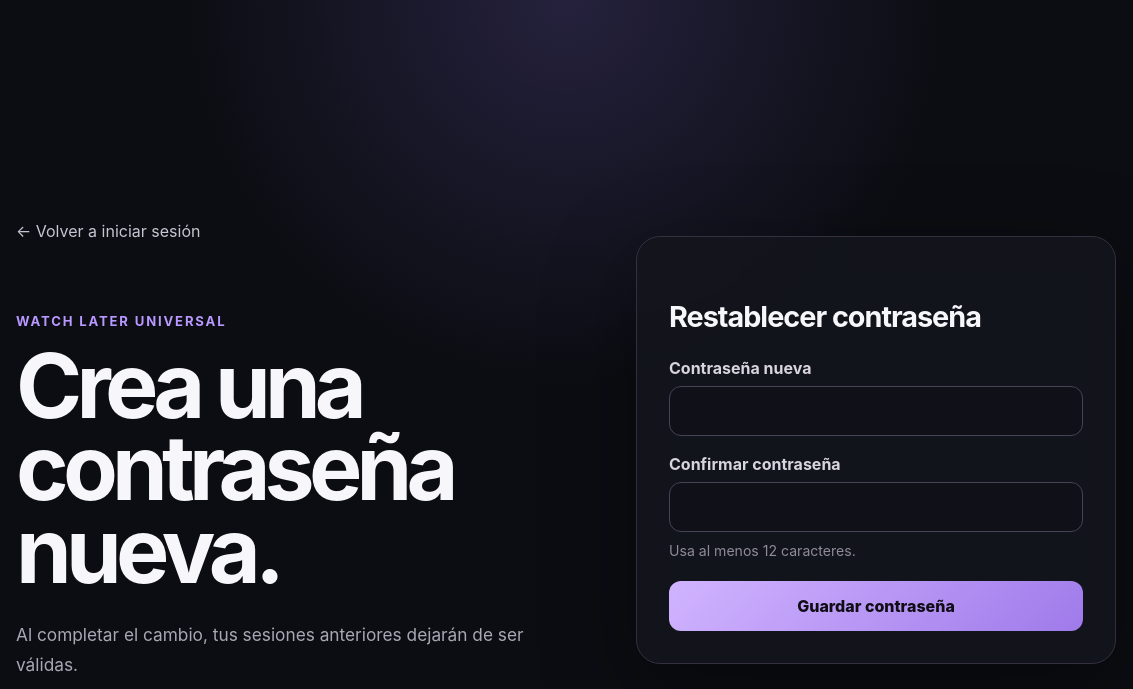
Password reset pages › sets a new password using the URL token
In the password field labelled "Contraseña nueva": [876, 411] box [669,386,1083,436], type "new-safe-learning-password"
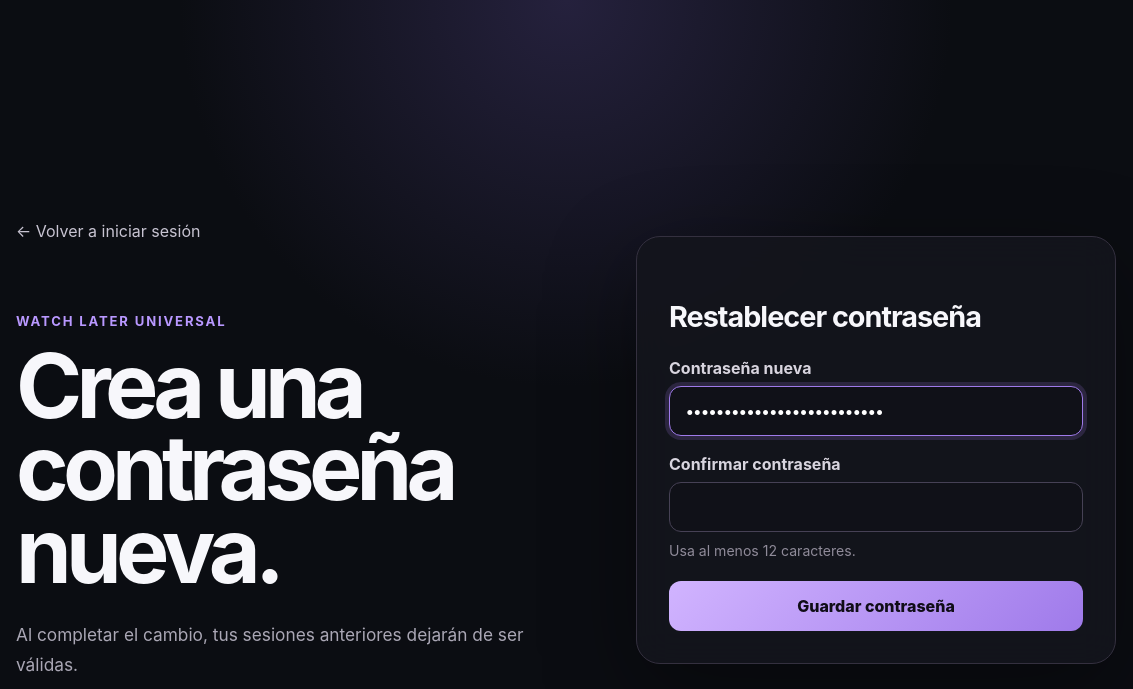
In the password field labelled "Confirmar contraseña": [876, 507] box [669,482,1083,532], type "new-safe-learning-password"
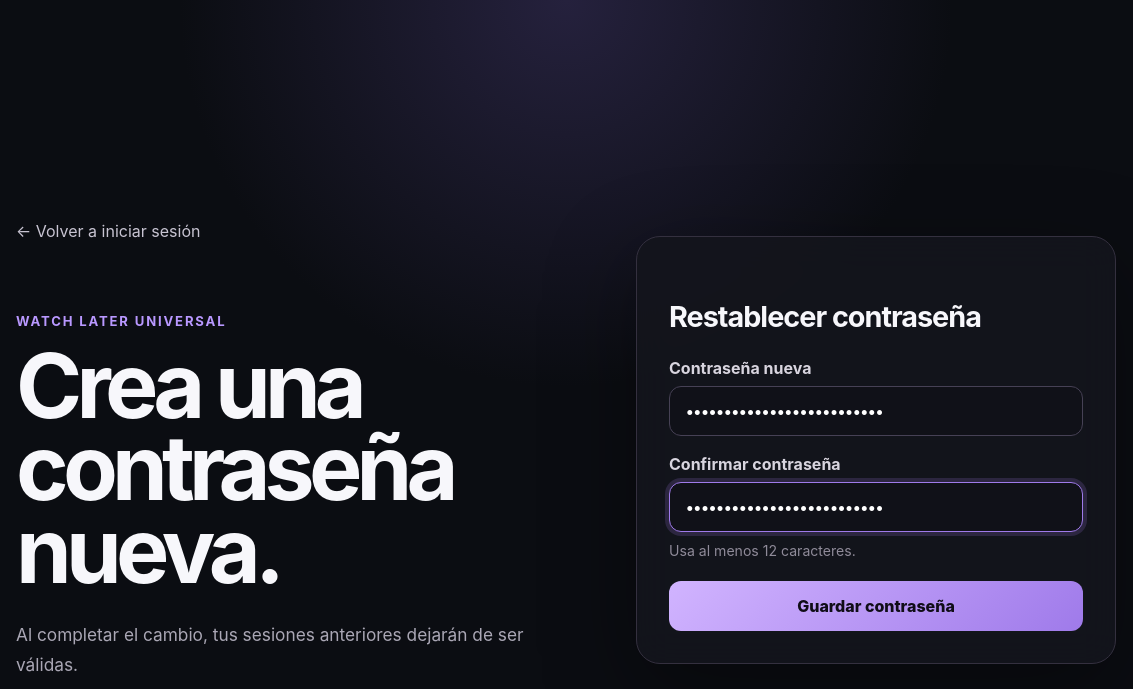
Click the button "Guardar contraseña": [876, 606] box [669,581,1083,631]
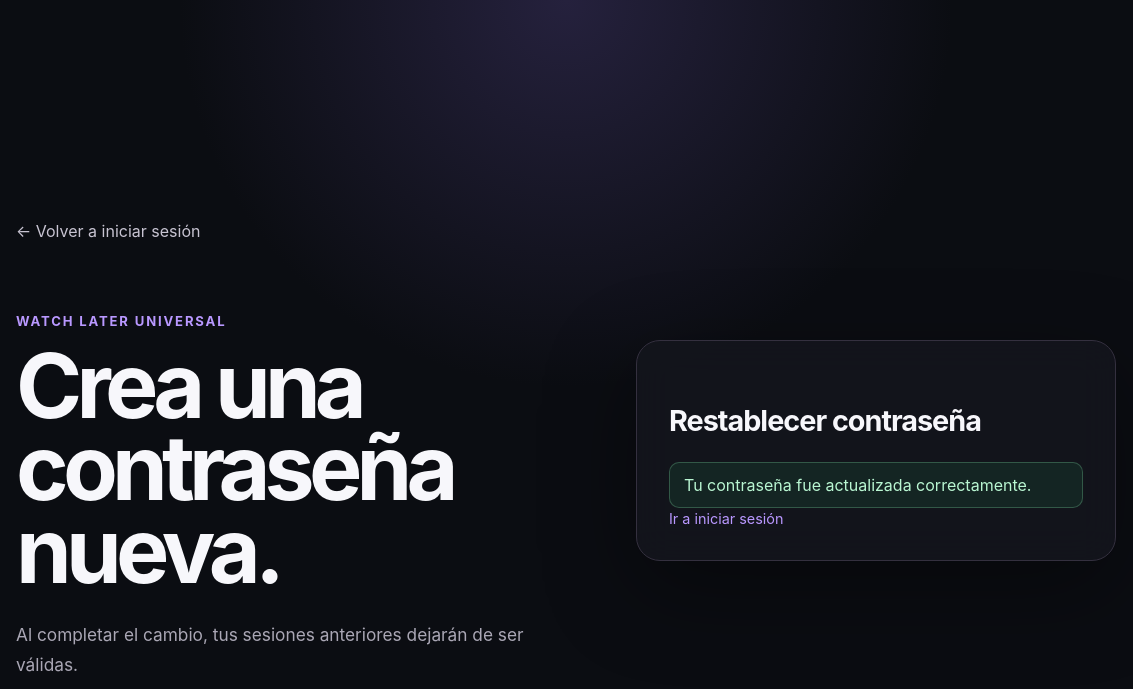
Expected: the message reads "Tu contraseña fue actualizada correctamente.", [684,474,1032,494]
